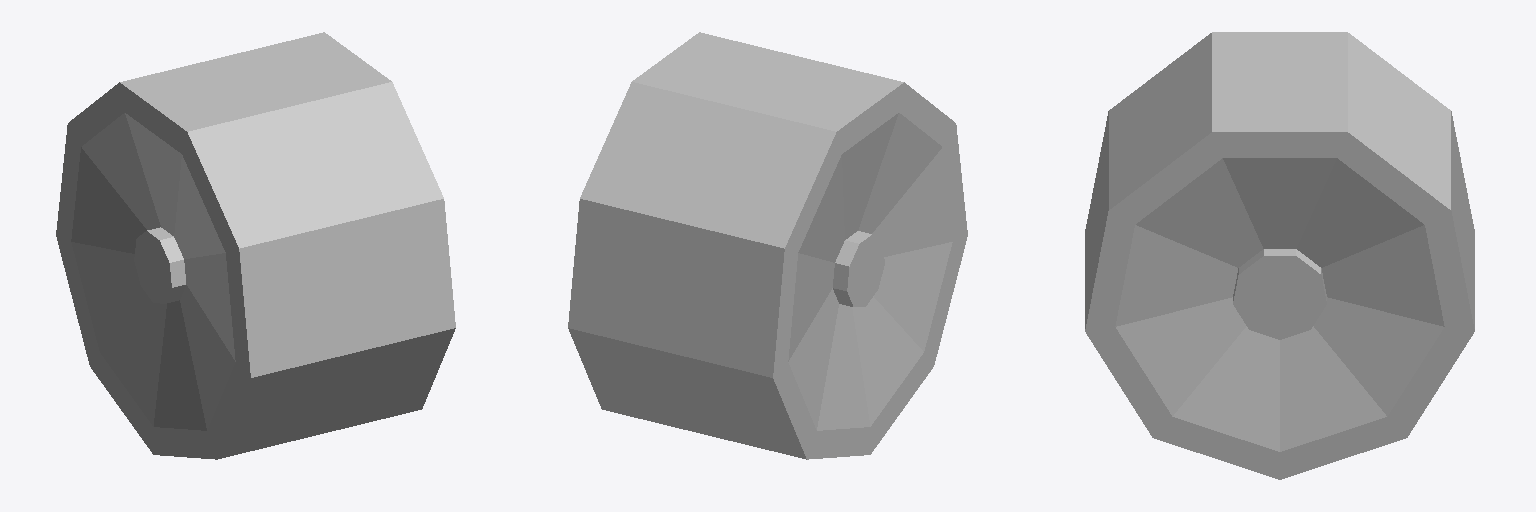
Rendered from koloduze.obj.
The picture shows the model from 3 angles: view 1: azimuth 30°, elevation 25°; view 2: azimuth 150°, elevation 25°; view 3: azimuth 270°, elevation 25°; orthographic projection.
Parts seen in each view (by area): view 1: Cylinder; view 2: Cylinder; view 3: Cylinder.
Boxes of the visible parts, x1=… form: Cylinder: x1=56, y1=32, x2=455, y2=459; Cylinder: x1=568, y1=32, x2=967, y2=459; Cylinder: x1=1085, y1=32, x2=1474, y2=479.
Bounding box in the file's own units: 0.596 × 0.9662 × 0.981.